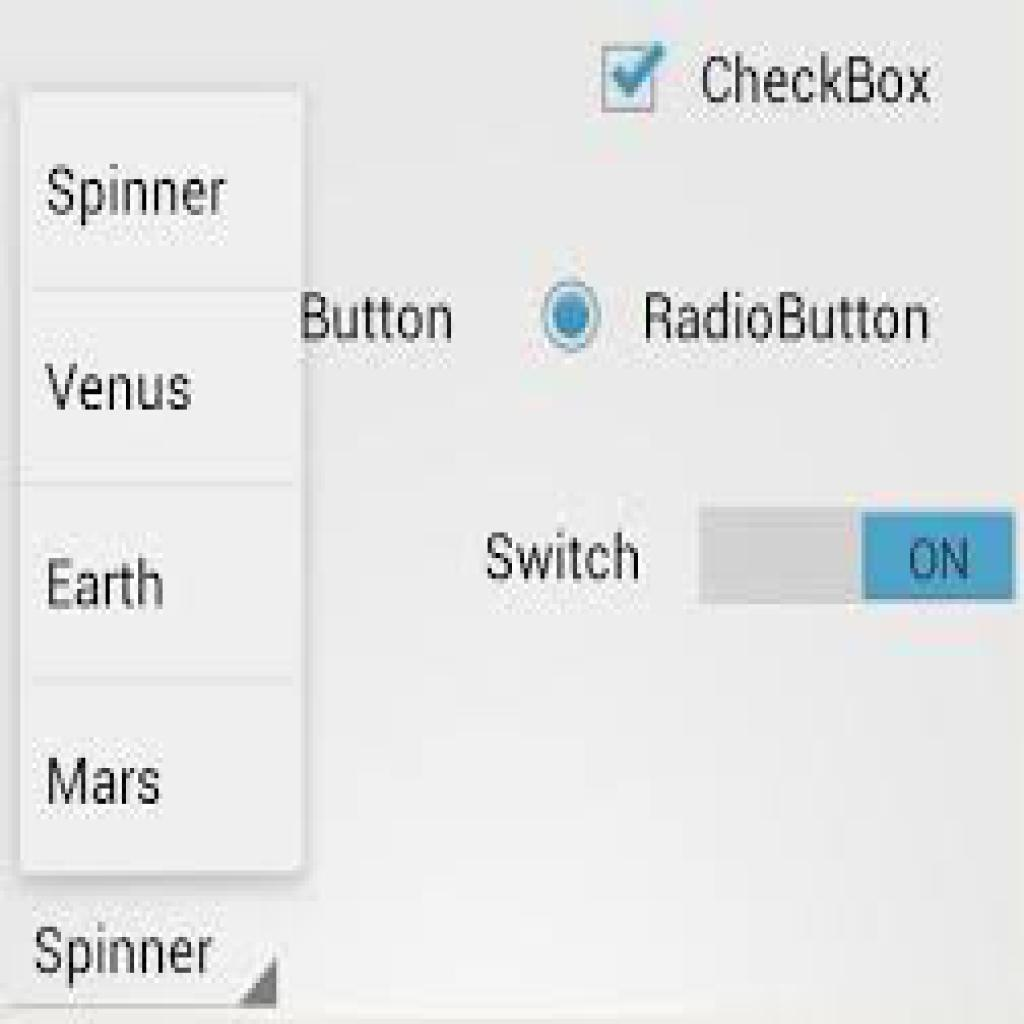checkbox: (599, 45, 658, 113)
radio: (535, 269, 605, 359)
switch: (698, 505, 1014, 605)
